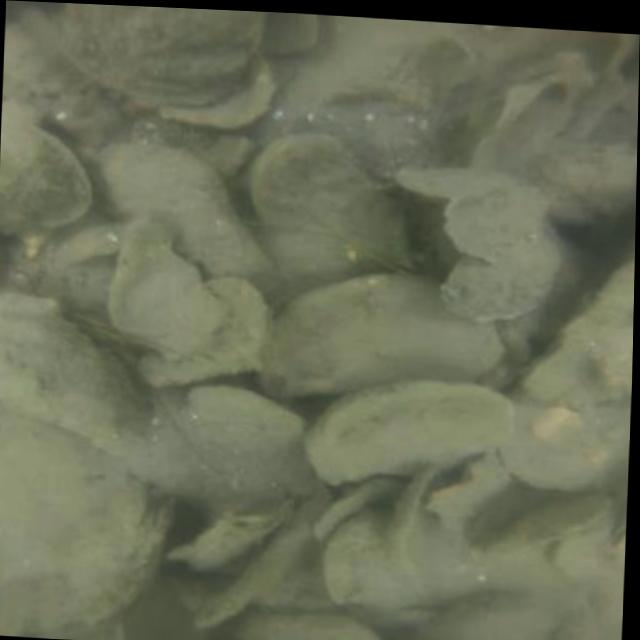Oyster-Indeterminate: (256, 274, 512, 394), (246, 130, 426, 283), (99, 136, 275, 277), (321, 512, 567, 611), (302, 382, 516, 490), (49, 2, 264, 105), (0, 292, 129, 439), (520, 259, 635, 403), (435, 229, 559, 325), (0, 125, 81, 235), (482, 493, 612, 555), (215, 605, 385, 640)
